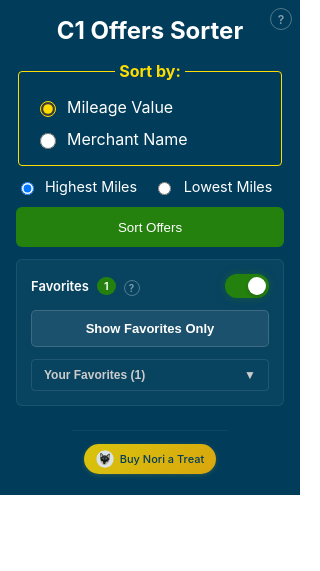
Test: App - User Behaviors › User Expands Favorites List › should expand list when user clicks expand button
Click the button "Your Favorites (1) ▼" at (150, 375), box [31,359,269,391]
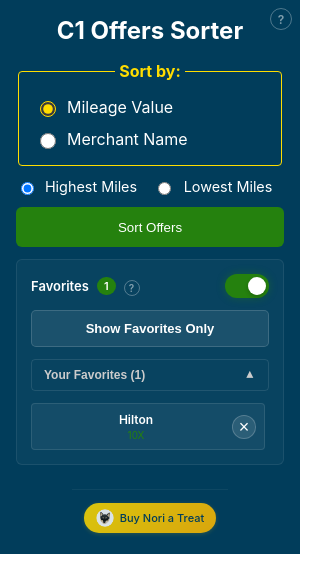
expect the text "Hilton" is shown: met, box [119,412,153,427]
